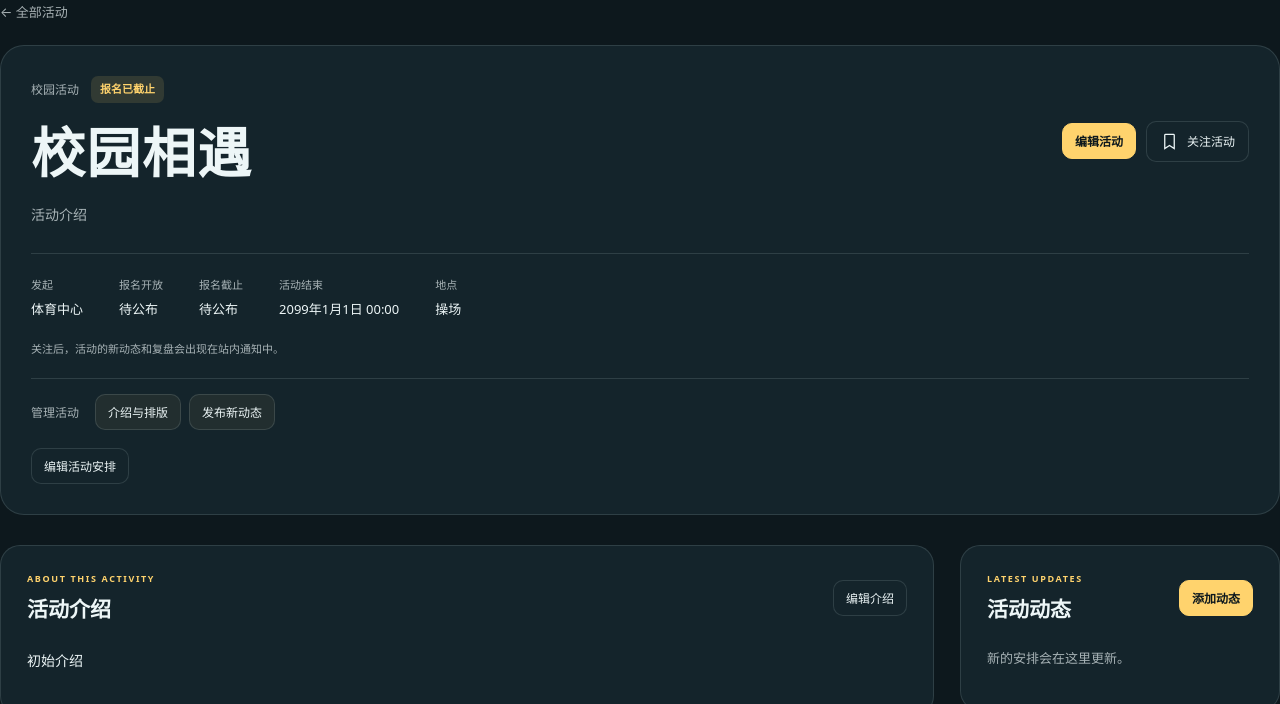
Test: independent activity workspace › sets actual completion separately from the registration deadline before enabling recap
Click the button "编辑活动安排". click: (80, 466)
box: [31,448,129,484]
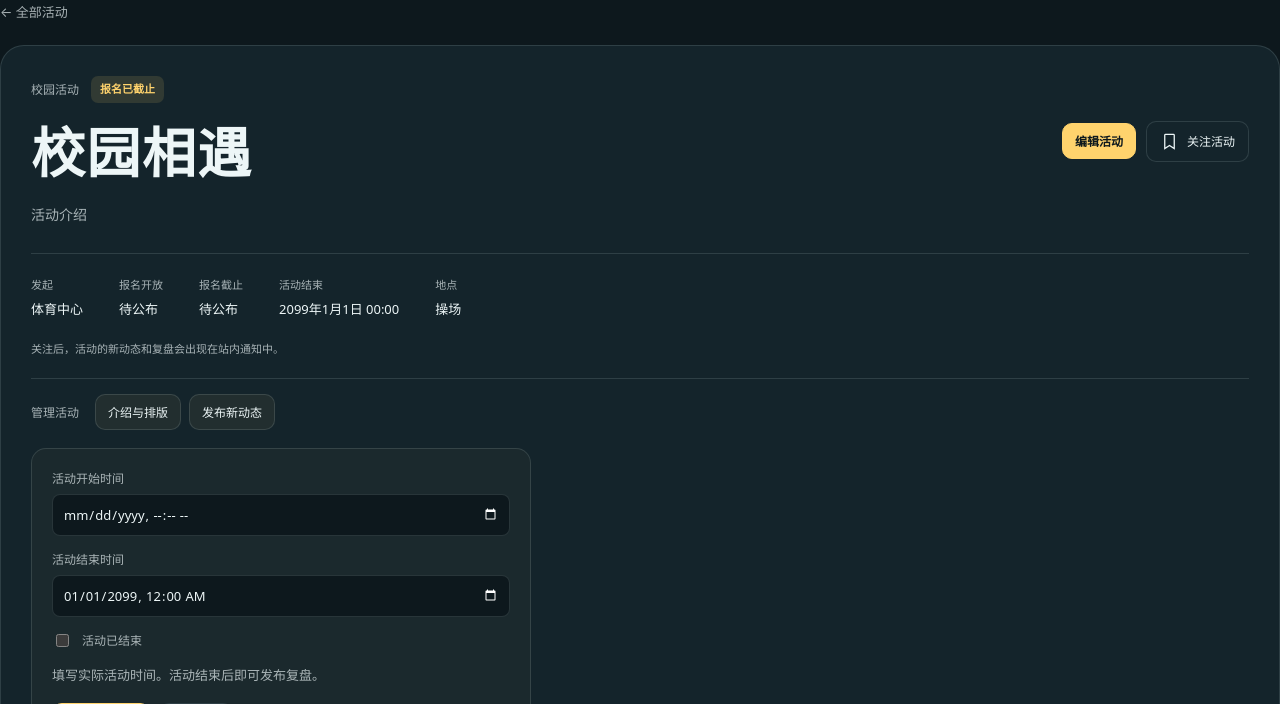
Click the checkbox labelled "活动已结束". click: (62, 640)
box: [56,634,69,647]
(page scrolled)
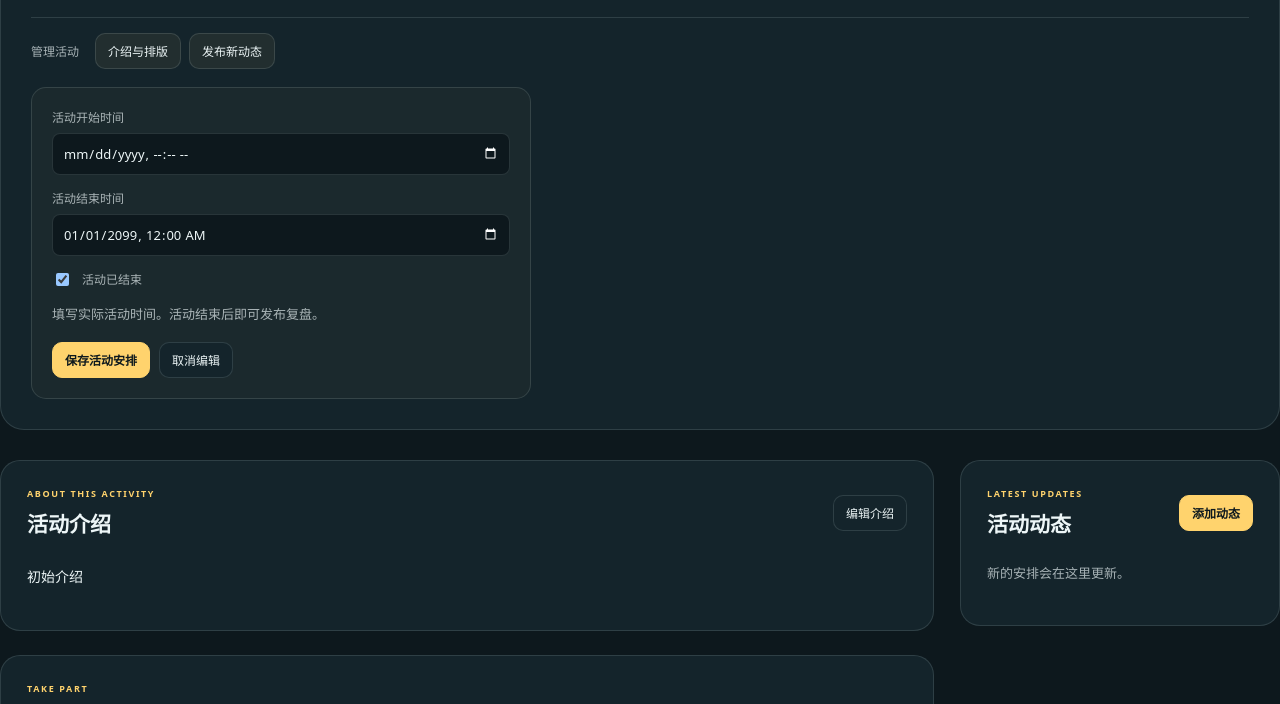
Click the button "保存活动安排". click: (101, 360)
box: [52,342,150,378]
(page scrolled)
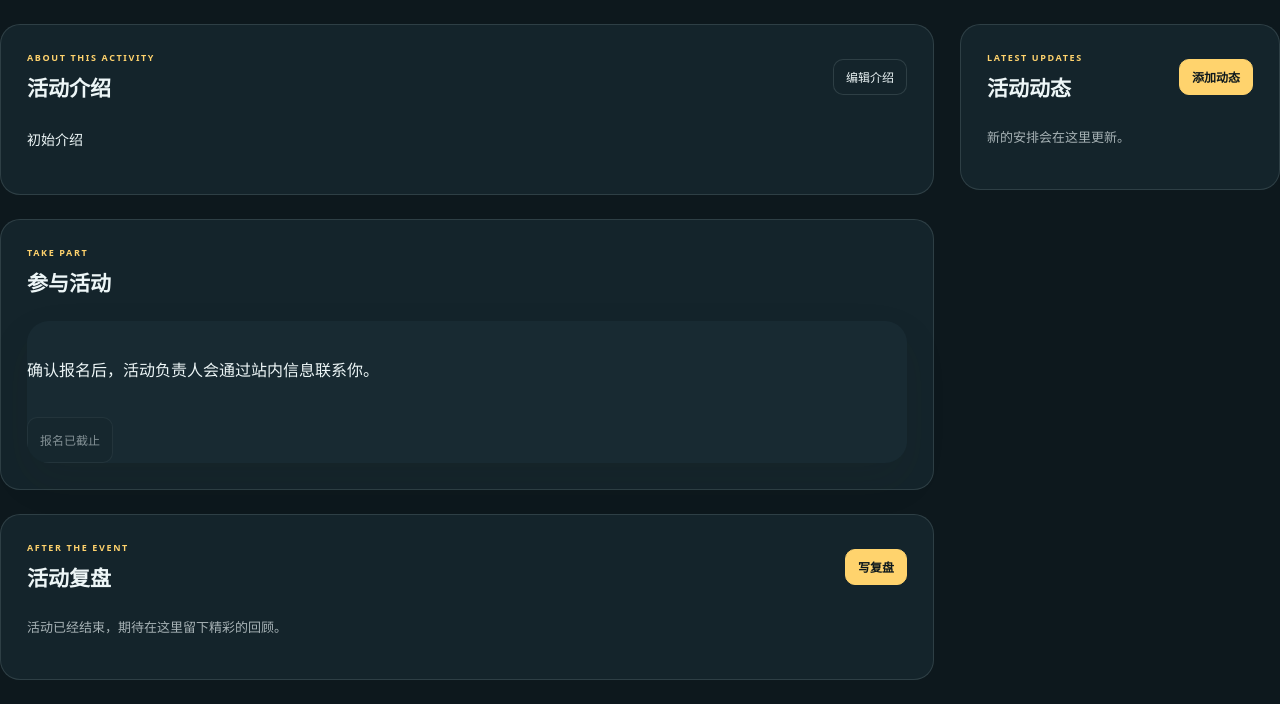
Now the button "写复盘" is shown, box [845,549,907,585]
